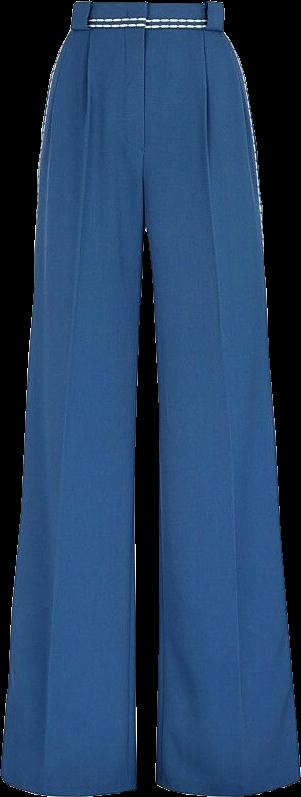Hemline: (0, 769, 141, 796), (154, 775, 300, 796)
Pantleg: (139, 1, 299, 795), (1, 1, 151, 796)
Waistline: (67, 19, 225, 35), (71, 0, 222, 11)
